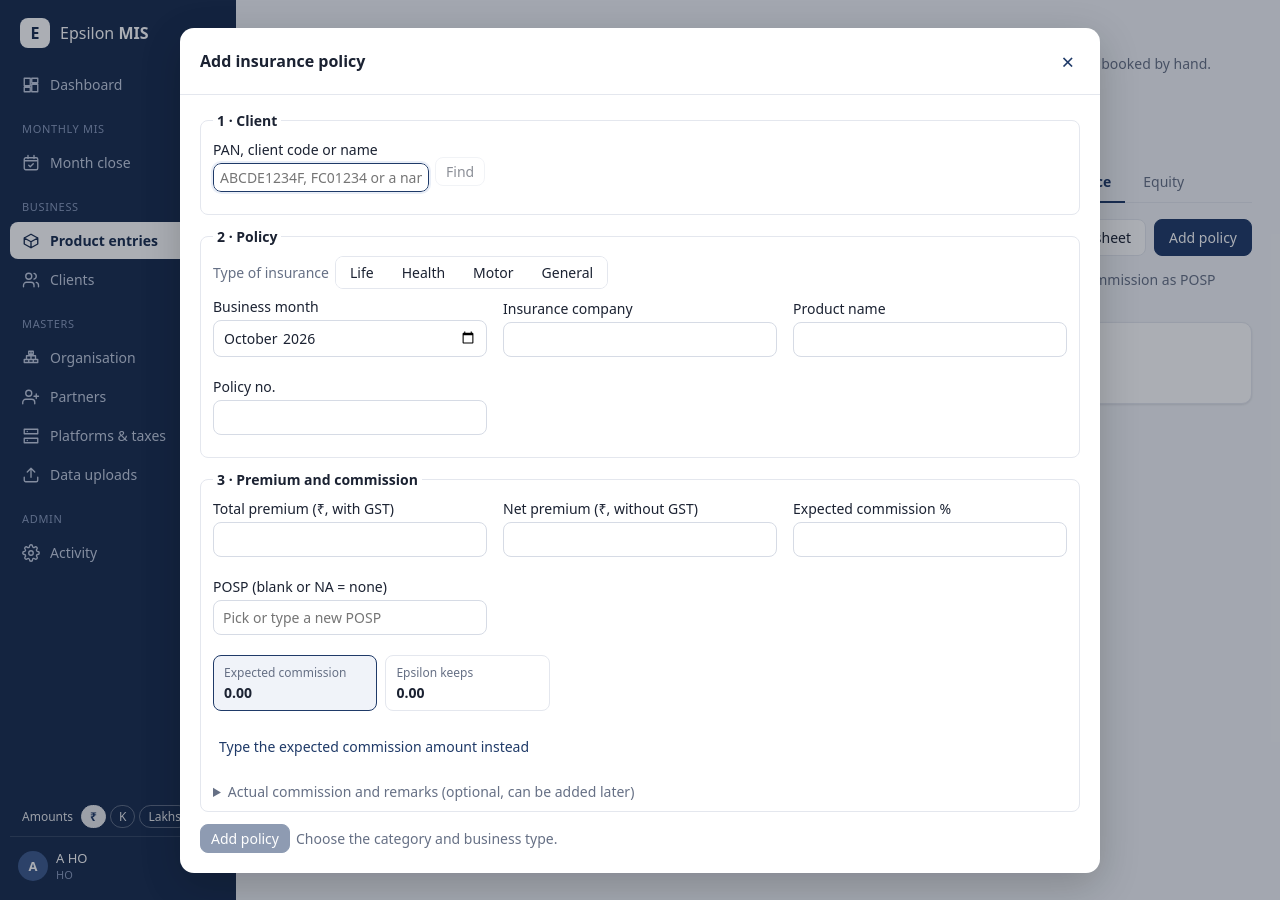
Test case: insurance form: each kind of insurance shows its own fields (R-96) › shows no type section until a type is picked, then only that type’s options and required fields
Check: the element "details" is not shown
Click the button "Life": (362, 272) left=336, top=256, right=388, bottom=288
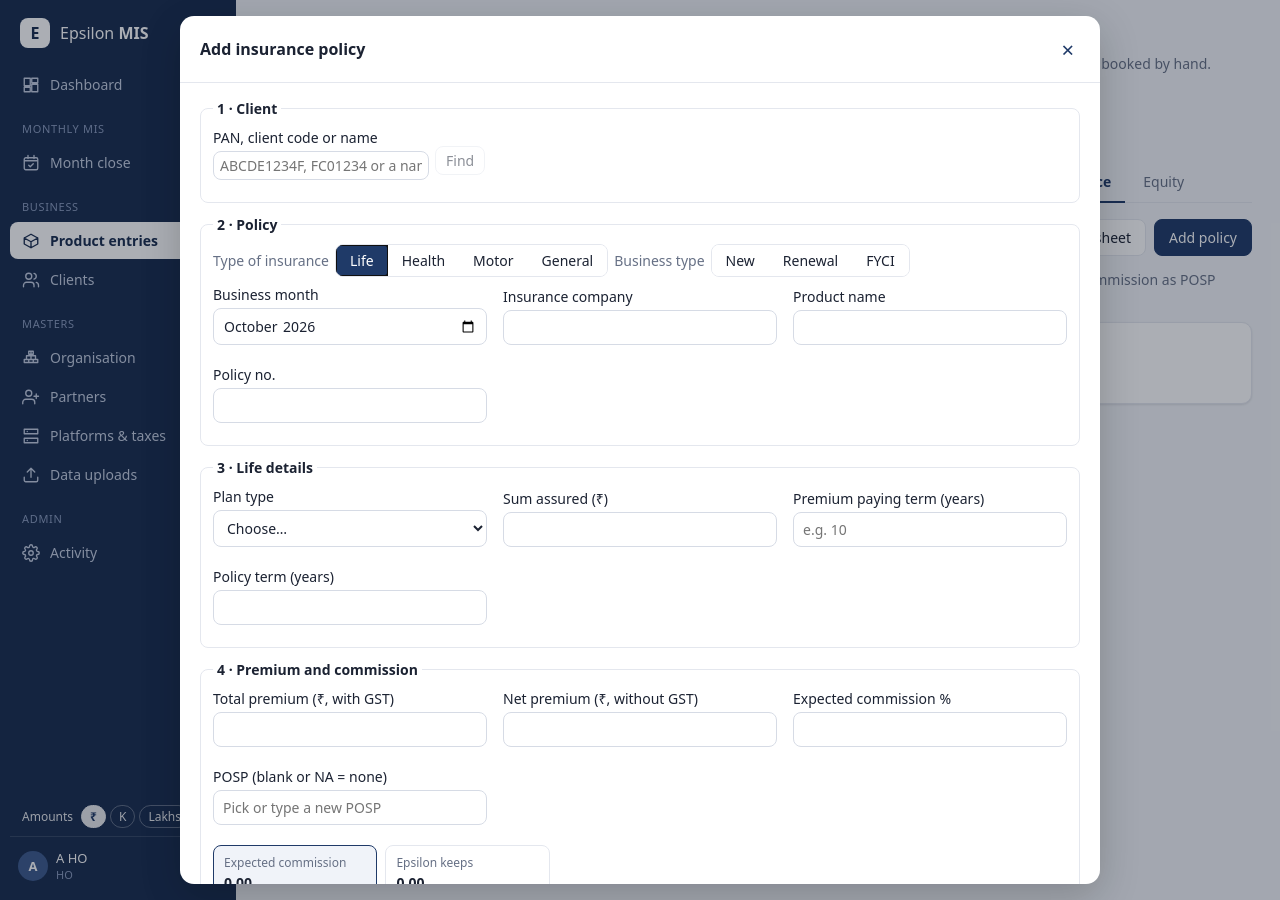
Check: the field labelled "OD premium" is not shown
Check: the element "3 · Life details" is shown, box left=200, top=458, right=1080, bottom=648
Click the button "Health": (423, 260) left=388, top=245, right=459, bottom=276
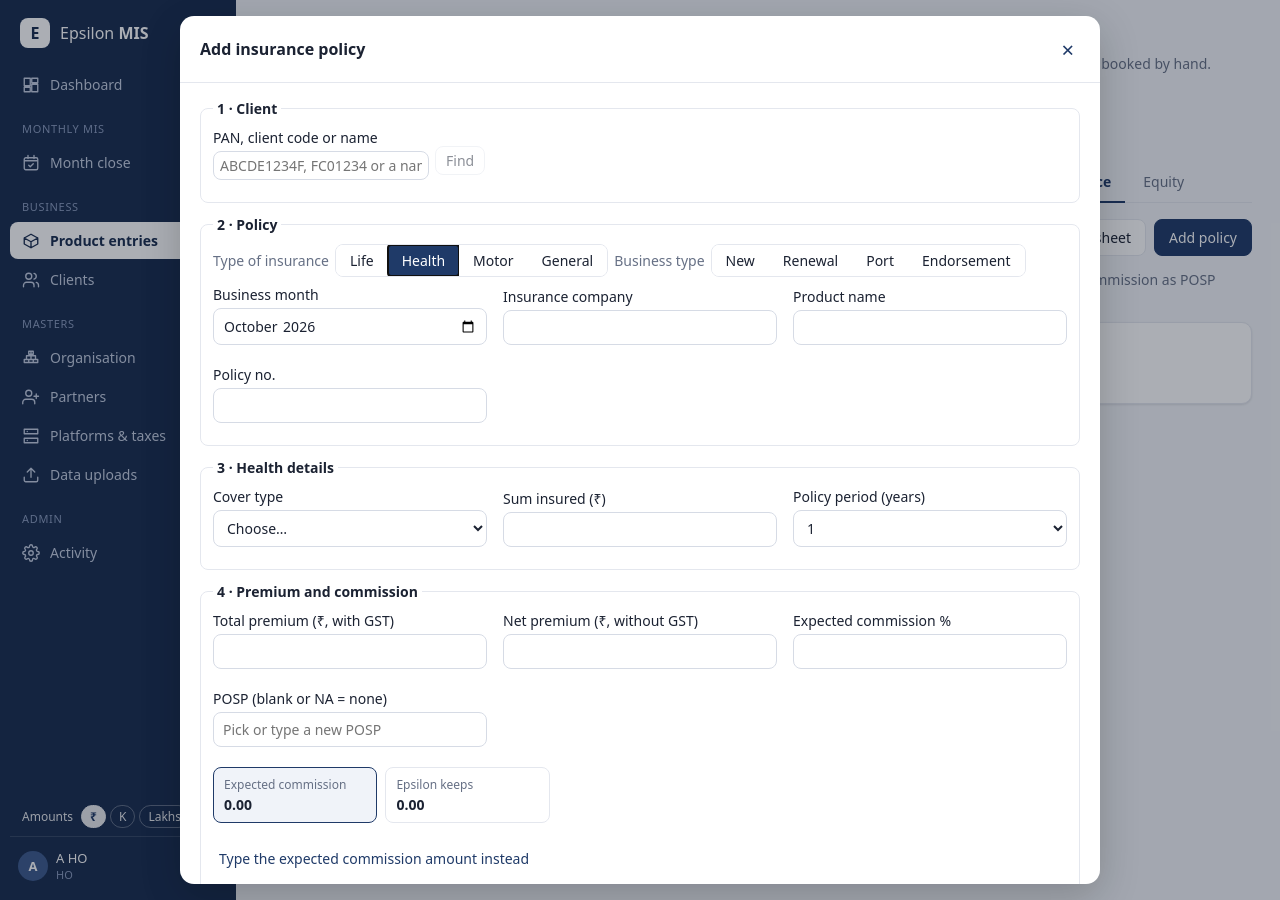
Check: the element "3 · Health details" is shown, box left=200, top=458, right=1080, bottom=570
Check: the dropdown labelled "Policy period (years)" shows "1", box left=793, top=510, right=1067, bottom=547
Check: the label labelled "Policy term" is gone
Click the button "Motor": (493, 260) left=459, top=245, right=528, bottom=276
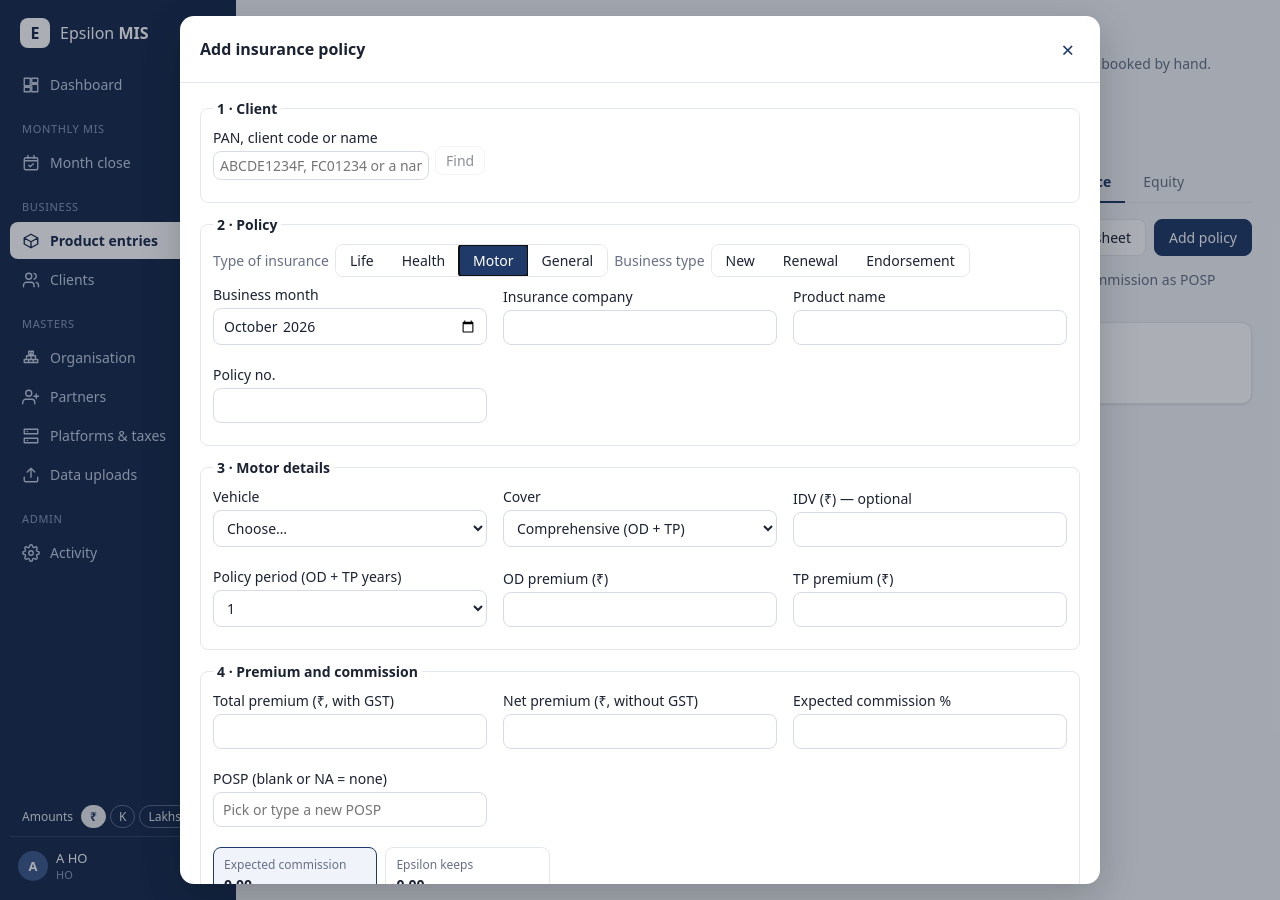
Check: the element "3 · Motor details" is shown, box left=200, top=458, right=1080, bottom=650
Click the button "General": (567, 260) left=528, top=245, right=607, bottom=276
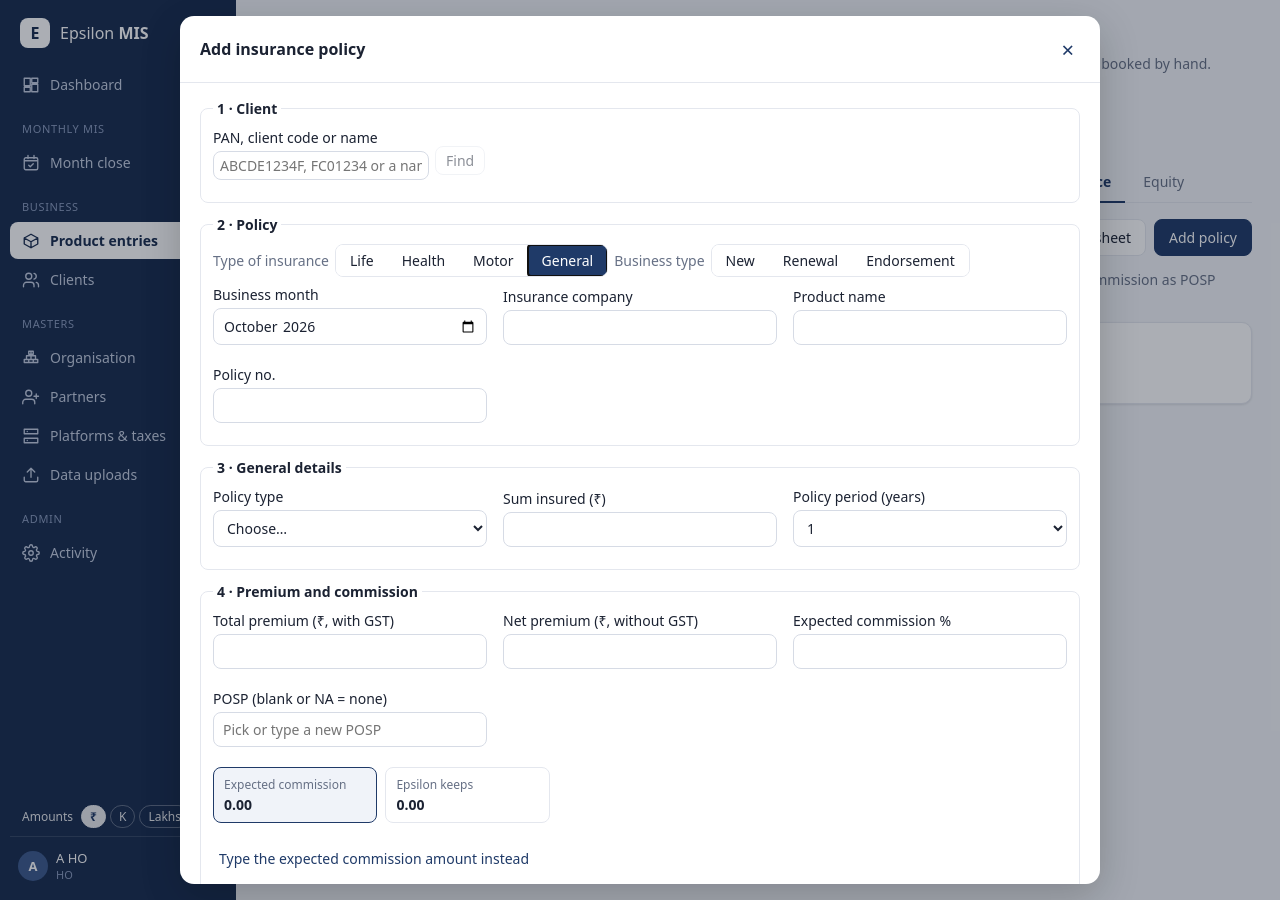
Check: the element "3 · General details" is shown, box left=200, top=458, right=1080, bottom=570
Check: the label labelled "OD premium" is gone
